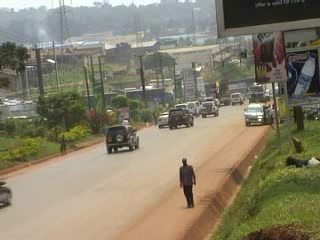Car: (101, 122, 141, 156), (166, 106, 195, 129), (0, 178, 13, 209), (199, 99, 219, 119), (154, 107, 169, 129), (206, 94, 220, 107)
